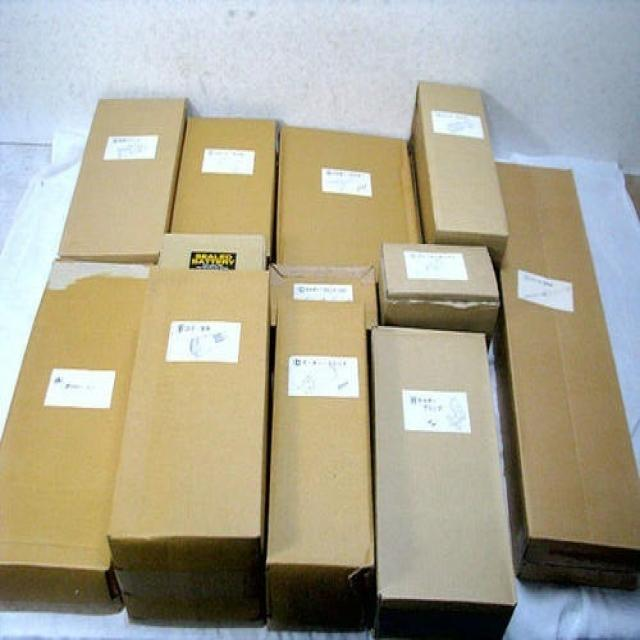box: (494, 162, 637, 591), (108, 268, 274, 628), (0, 261, 147, 614), (372, 328, 515, 638), (268, 280, 372, 628), (59, 97, 200, 258), (276, 126, 421, 268), (410, 82, 507, 275), (168, 118, 275, 261), (378, 247, 499, 353), (268, 265, 378, 326), (159, 236, 266, 273)
